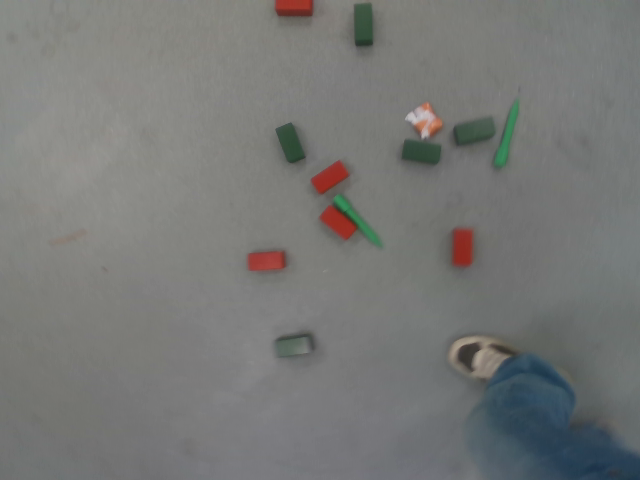Probe: (332, 190, 387, 251), (490, 96, 524, 168)
